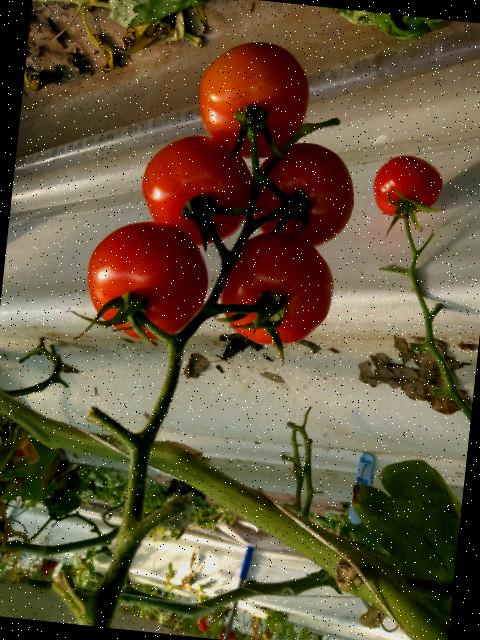l_fully_ripened: (81, 215, 214, 346), (193, 36, 314, 164), (215, 227, 339, 351), (136, 130, 259, 251), (248, 137, 359, 251), (370, 152, 445, 222)
